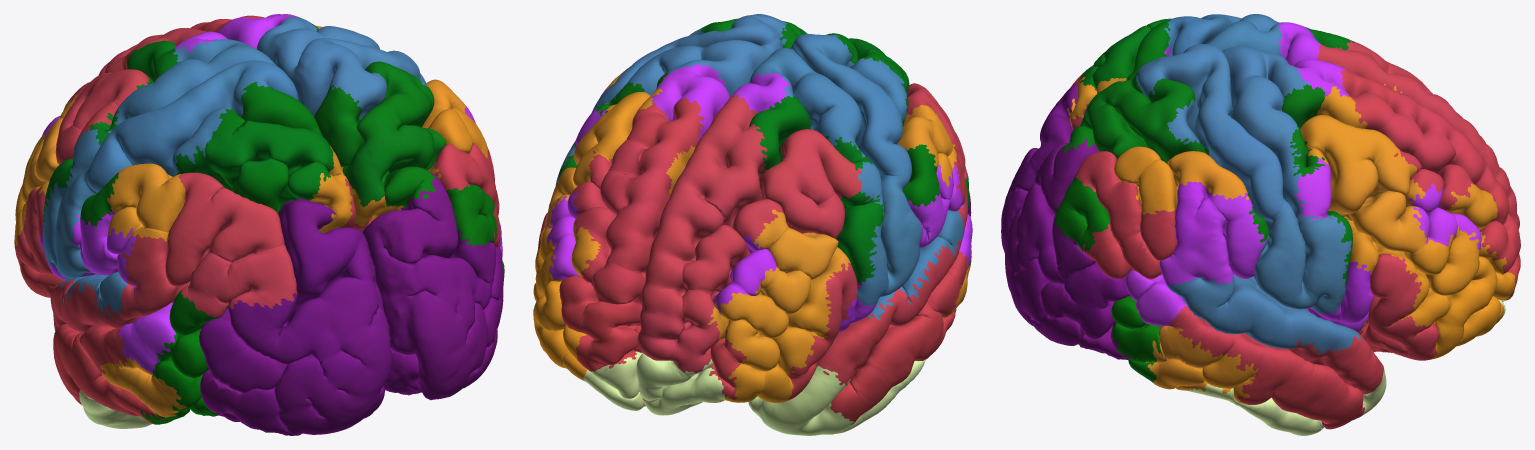
Rendered from cortex-schaefer.glb.
3 renders of one model, left to right at view 1: azimuth 30°, elevation 25°; view 2: azimuth 150°, elevation 25°; view 3: azimuth 270°, elevation 25°, orthographic. The views are drawn at different scales.
Visible parts, largest first — view 1: schaefer:left:12, schaefer:left:24, schaefer:right:29, schaefer:left:52, schaefer:left:161, schaefer:right:23, schaefer:left:165, schaefer:left:81, schaefer:left:164, schaefer:left:163, schaefer:left:82, schaefer:right:15 (+88 smaller); view 2: schaefer:left:182, schaefer:left:179, schaefer:left:135, schaefer:left:176, schaefer:right:189, schaefer:left:188, schaefer:left:124, schaefer:left:118, schaefer:right:185, schaefer:left:137, schaefer:left:142, schaefer:right:180 (+78 smaller); view 3: schaefer:right:168, schaefer:right:189, schaefer:right:154, schaefer:right:46, schaefer:right:53, schaefer:right:145, schaefer:right:32, schaefer:right:151, schaefer:right:142, schaefer:right:16, schaefer:right:132, schaefer:right:138 (+89 smaller).
Boxes of the visible parts, <box> form: schaefer:left:12: <box>274,362,373,434</box>; schaefer:left:24: <box>303,277,390,359</box>; schaefer:right:29: <box>370,190,458,264</box>; schaefer:left:52: <box>91,107,185,188</box>; schaefer:left:161: <box>201,250,297,317</box>; schaefer:right:23: <box>383,255,458,325</box>; schaefer:left:165: <box>168,172,232,257</box>; schaefer:left:81: <box>267,124,334,202</box>; schaefer:left:164: <box>213,188,288,261</box>; schaefer:left:163: <box>121,234,204,300</box>; schaefer:left:82: <box>206,120,287,192</box>; schaefer:right:15: <box>384,305,442,394</box>; schaefer:left:182: <box>780,132,844,238</box>; schaefer:left:179: <box>654,227,724,322</box>; schaefer:left:135: <box>728,329,814,403</box>; schaefer:left:176: <box>637,296,720,372</box>; schaefer:right:189: <box>600,142,674,219</box>; schaefer:left:188: <box>684,123,767,189</box>; schaefer:left:124: <box>768,365,853,435</box>; schaefer:left:118: <box>636,353,725,406</box>; schaefer:right:185: <box>602,212,653,295</box>; schaefer:left:137: <box>726,290,788,357</box>; schaefer:left:142: <box>754,209,829,279</box>; schaefer:right:180: <box>576,306,638,371</box>; schaefer:right:168: <box>1237,348,1342,418</box>; schaefer:right:189: <box>1390,93,1467,173</box>; schaefer:right:154: <box>1300,115,1400,172</box>; schaefer:right:46: <box>1265,211,1324,307</box>; schaefer:right:53: <box>1204,114,1274,200</box>; schaefer:right:145: <box>1415,226,1479,295</box>; schaefer:right:32: <box>1205,290,1297,349</box>; schaefer:right:151: <box>1374,154,1427,244</box>; schaefer:right:142: <box>1432,278,1493,359</box>; schaefer:right:16: <box>1064,262,1132,333</box>; schaefer:right:132: <box>1114,146,1174,214</box>; schaefer:right:138: <box>1153,353,1258,404</box>.
Bounding box in the file's own units: 0.1294 × 0.1236 × 0.1629.
